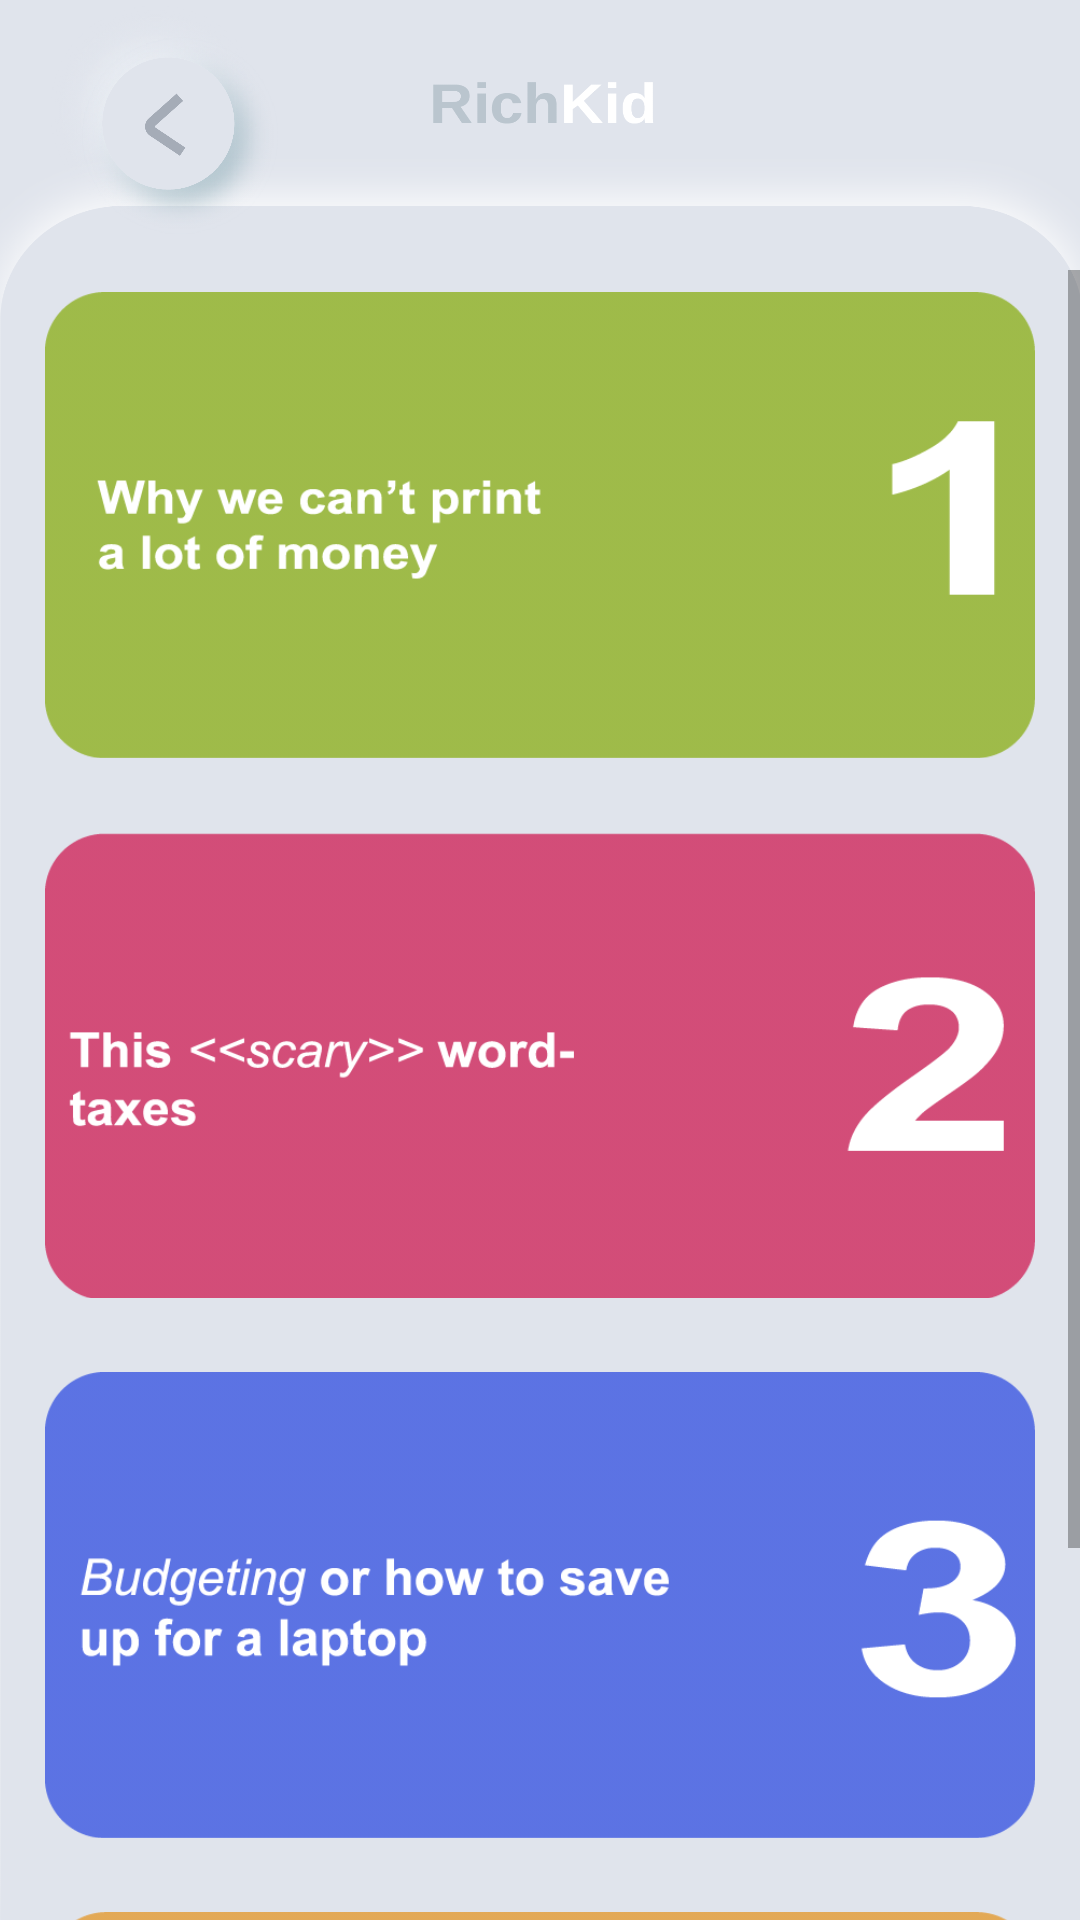

Point at icon controls on the screen. Image size 1080px×1920px, points as [x,y].
custom back: [196,145]
